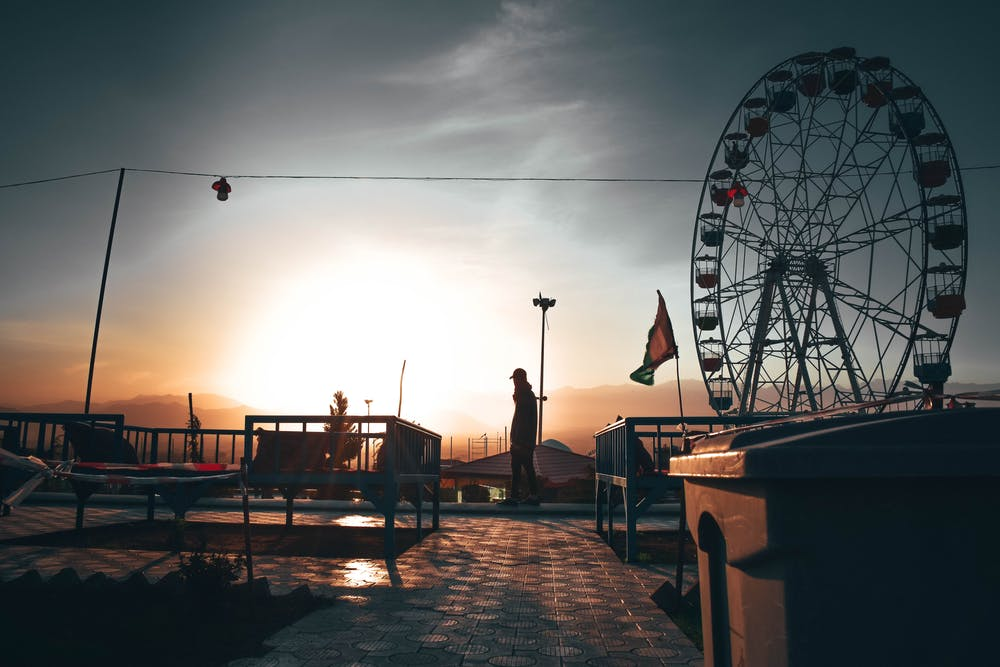Flag: (627, 296, 681, 388)
